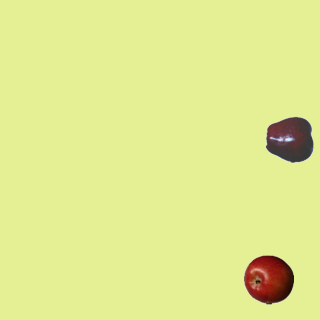Apple Braeburn: (243, 254, 293, 304)
Apple Red Delicious: (265, 114, 315, 164)
